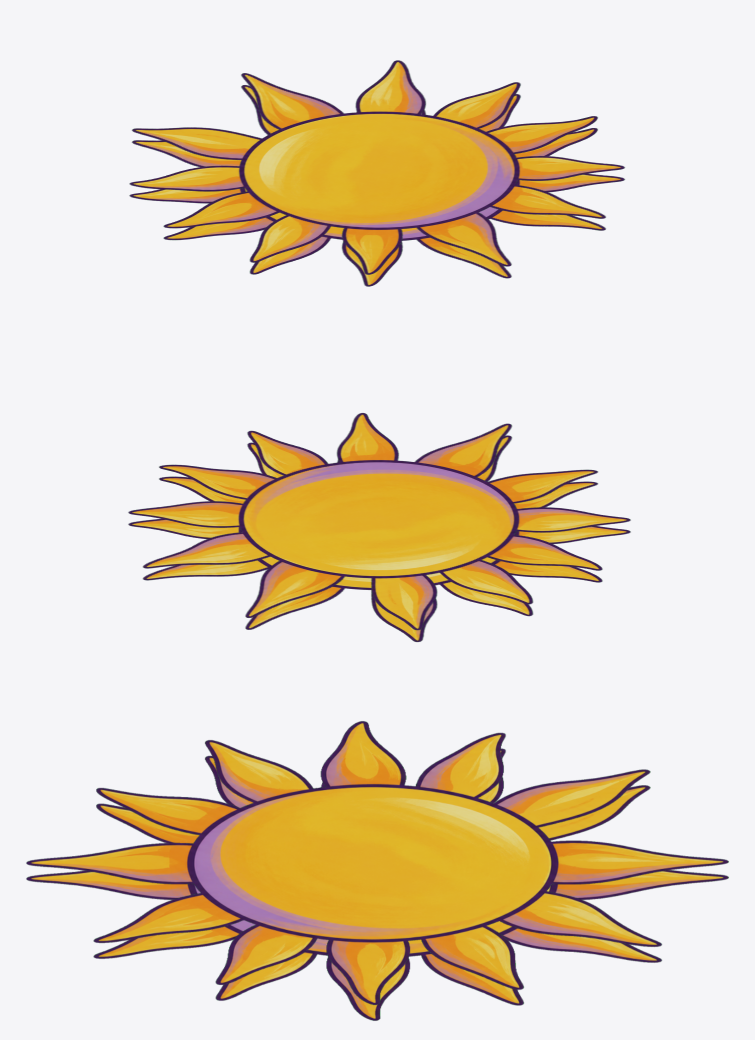
File: sun.glb
3 views of the same model, one above another, from view 1: azimuth 30°, elevation 25°; view 2: azimuth 150°, elevation 25°; view 3: azimuth 270°, elevation 25° (orthographic). The views are drawn at different scales.
Parts seen in each view (by area): view 1: sun; view 2: sun; view 3: sun.
Boxes of the visible parts, x1,y1,x2,y2 form: sun: (129, 60, 624, 286); sun: (128, 413, 630, 641); sun: (26, 721, 728, 1020).
Size of the model in its own units: 2 by 0.05 by 2.09.
1 material, 1 textured.
